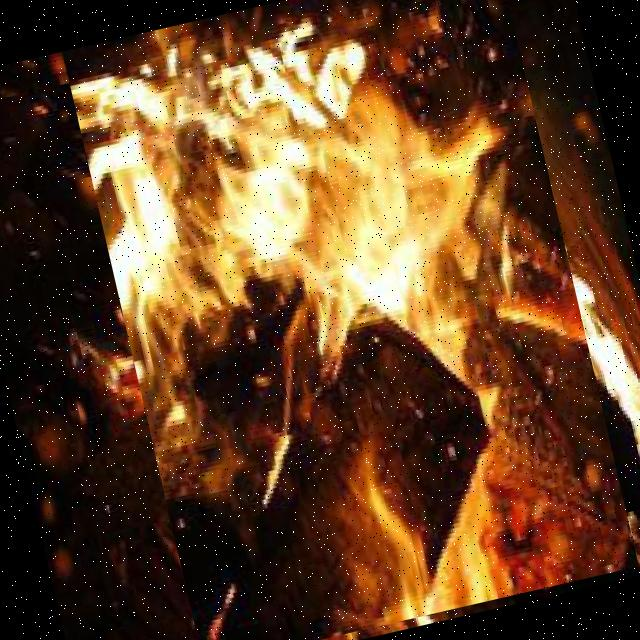fire: (61, 0, 638, 640)
